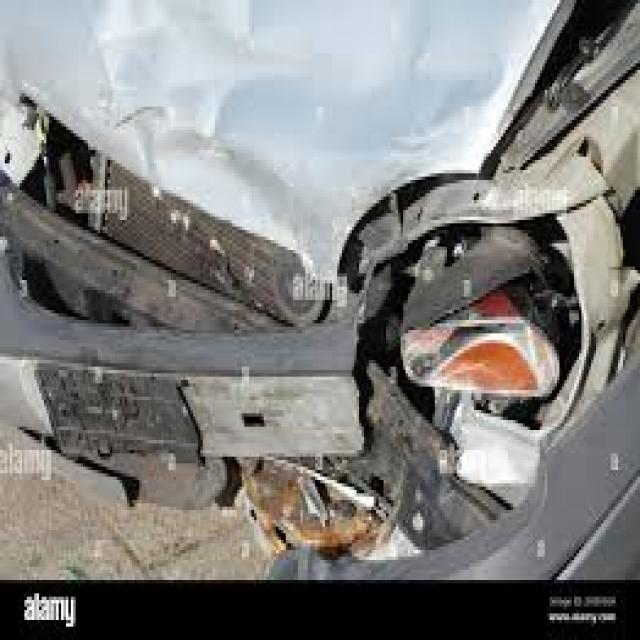minor: (24, 97, 640, 533)
